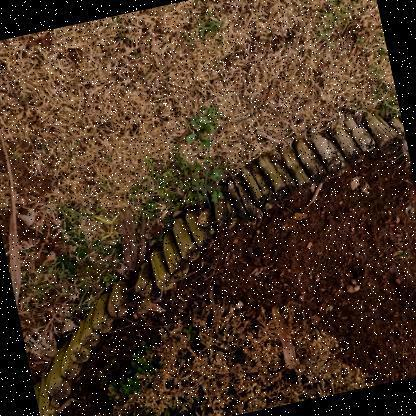Weeds: (179, 103, 227, 153), (189, 165, 230, 208)
